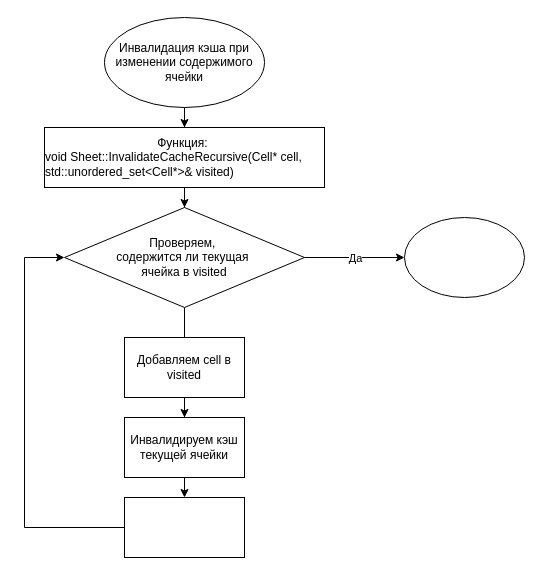
This 542x575 diagram has some shape labels left out. Each missing label, with the centre of its shape:
Выход из функции, ячейка уже обработана: (x=464, y=257)
Запускаем цикл для всех зависимых ячеек: (x=184, y=527)
